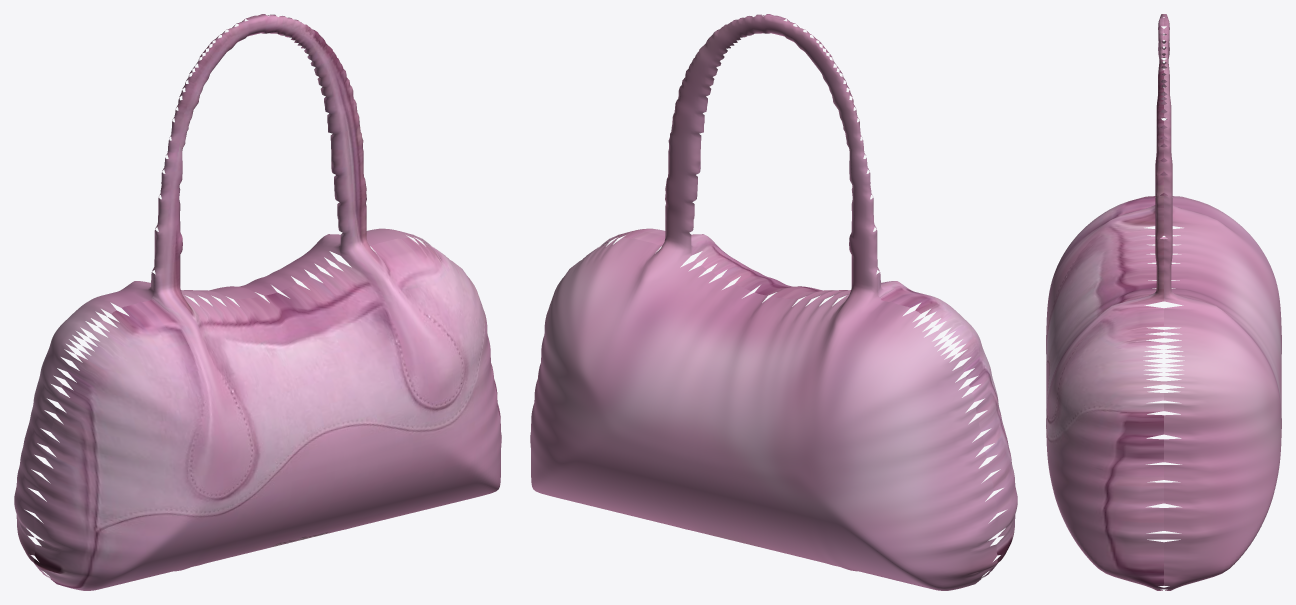
The model's file is bailey-pink.glb.
The picture shows the model from 3 angles, left to right: view 1: azimuth 30°, elevation 25°; view 2: azimuth 150°, elevation 25°; view 3: azimuth 270°, elevation 25°; orthographic projection. The views are drawn at different scales.
Parts seen in each view (by area): view 1: bailey-pink; view 2: bailey-pink; view 3: bailey-pink.
Part boxes in pixels (x1,y1,x2,y2): bailey-pink: (14, 14, 501, 590); bailey-pink: (530, 14, 1017, 590); bailey-pink: (1046, 14, 1281, 590).
Bounding box in the file's own units: 0.3196 × 0.3518 × 0.1588.
Materials: 2 (2 with a texture image).
